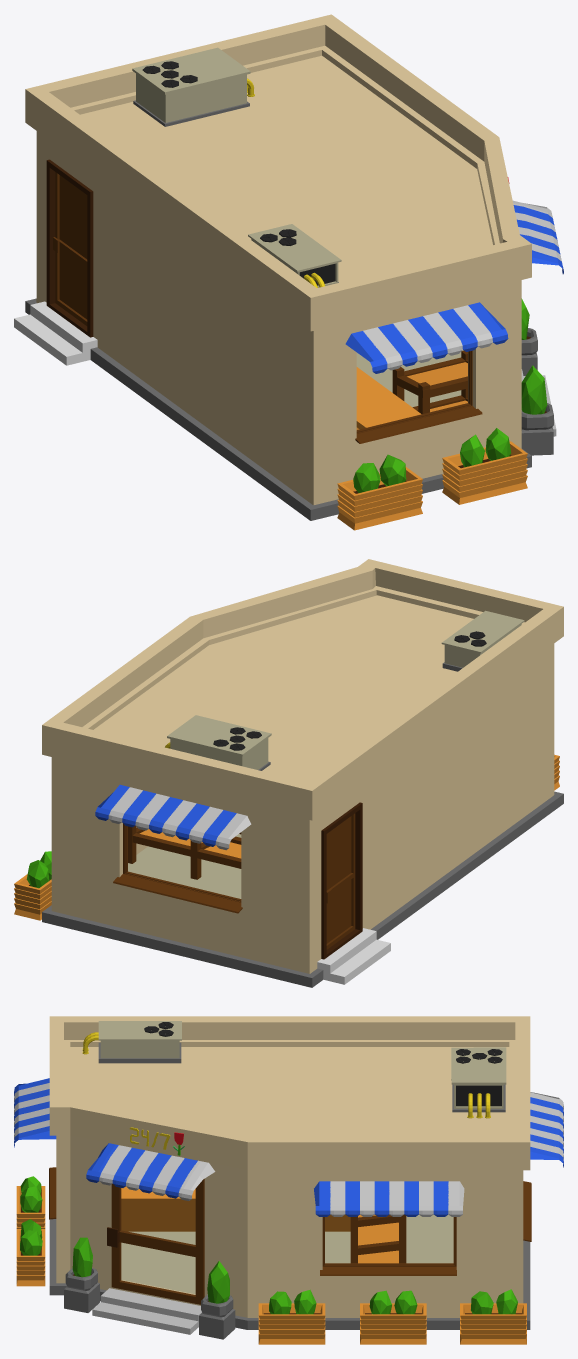
File: shop.fbx
3 views of the same model, one above another, from view 1: azimuth 30°, elevation 25°; view 2: azimuth 150°, elevation 25°; view 3: azimuth 270°, elevation 25° (orthographic). The views are drawn at different scales.
Visible parts, largest first — view 1: Куб, Куб.064, Куб.002, Куб.071, Куб.001, Куб.198, Куб.199, Куб.200, Куб.066, Куб.063, Куб.025, Куб.023 (+18 smaller); view 2: Куб, Куб.064, Куб.002, Куб.001, Куб.198, Куб.071, Куб.003, Куб.199, Куб.200, Куб.066, Куб.022, Куб.161 (+9 smaller); view 3: Куб, Куб.064, Куб.002, Куб.003, Куб.010, Куб.063, Куб.012, Куб.066, Куб.001, Куб.071, Куб.021, Куб.024 (+48 smaller).
Part boxes in pixels (x1,y1,x2,y2): Куб: [36, 45, 521, 505]; Куб.064: [80, 55, 492, 282]; Куб.002: [25, 14, 531, 331]; Куб.071: [132, 47, 250, 122]; Куб.001: [25, 298, 531, 520]; Куб.198: [53, 172, 87, 325]; Куб.199: [46, 159, 93, 337]; Куб.200: [14, 301, 97, 365]; Куб.066: [248, 224, 341, 287]; Куб.063: [356, 367, 421, 429]; Куб.025: [521, 403, 553, 455]; Куб.023: [355, 406, 482, 443]; Куб: [51, 586, 554, 973]; Куб.064: [94, 595, 473, 781]; Куб.002: [42, 559, 563, 820]; Куб.001: [42, 791, 563, 987]; Куб.198: [326, 813, 355, 949]; Куб.071: [167, 715, 271, 769]; Куб.003: [128, 834, 241, 898]; Куб.199: [321, 802, 362, 959]; Куб.200: [317, 928, 390, 984]; Куб.066: [441, 610, 524, 667]; Куб.022: [113, 873, 242, 913]; Куб.161: [132, 833, 190, 856]; Куб: [56, 1040, 523, 1317]; Куб.064: [70, 1047, 509, 1135]; Куб.002: [49, 1016, 530, 1170]; Куб.003: [121, 1214, 453, 1294]; Куб.010: [111, 1179, 204, 1304]; Куб.063: [121, 1186, 350, 1231]; Куб.012: [92, 1288, 201, 1334]; Куб.066: [98, 1021, 181, 1058]; Куб.001: [49, 1219, 530, 1329]; Куб.071: [451, 1047, 506, 1108]; Куб.021: [320, 1266, 456, 1275]; Куб.024: [199, 1294, 235, 1339].
Bounding box in the file's own units: 403 × 246 × 623.
